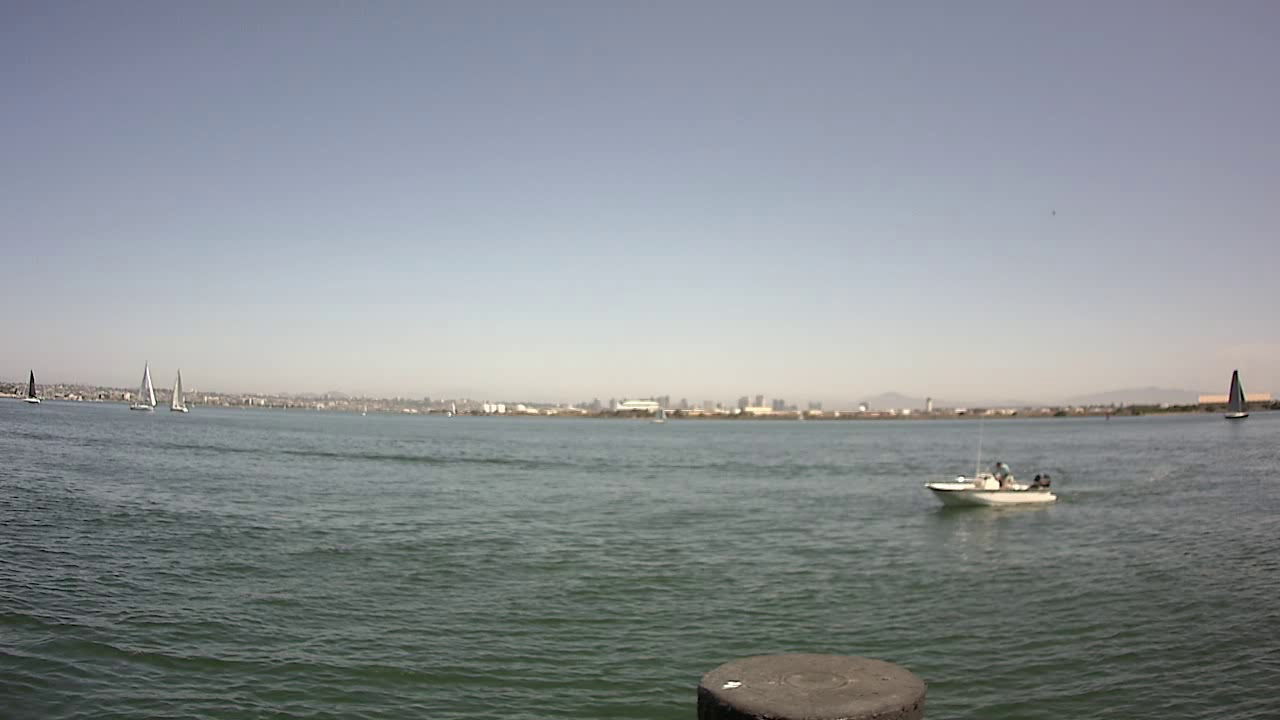target: (922, 452, 1063, 513)
